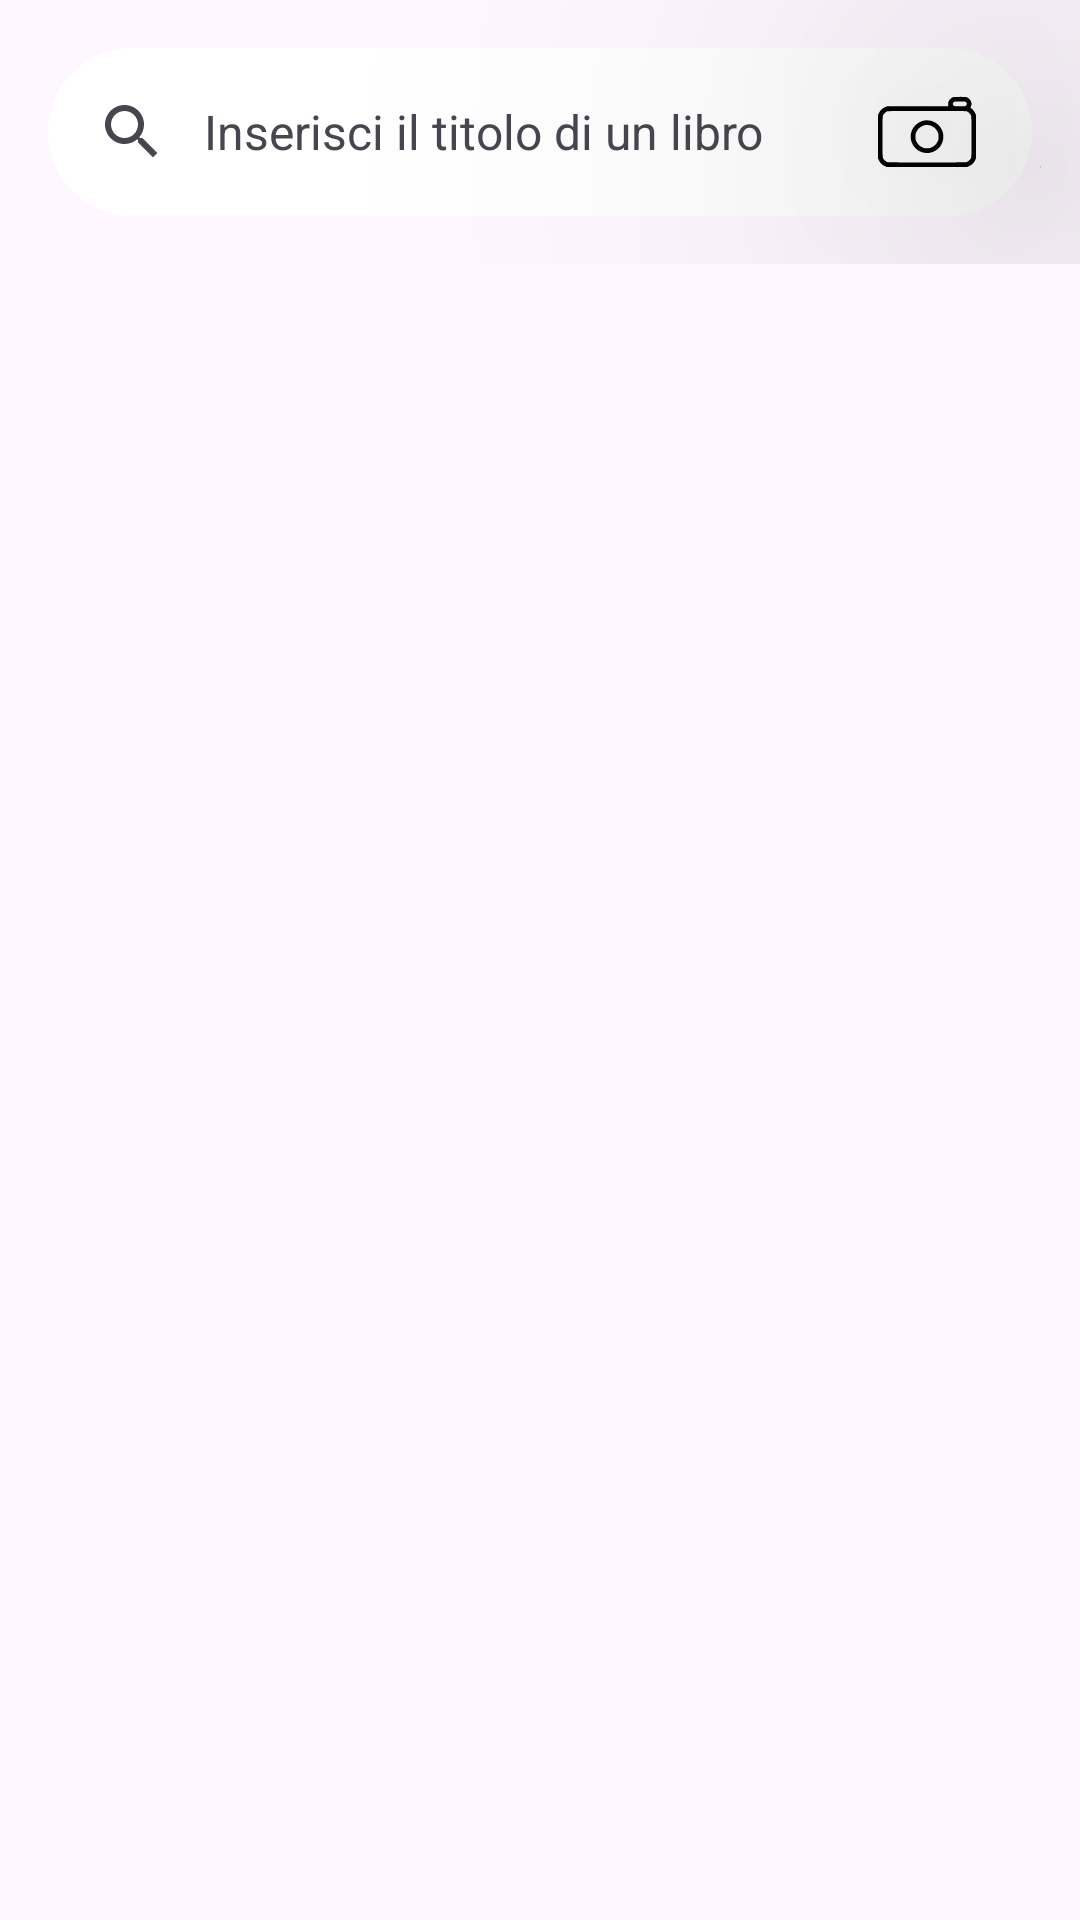

Named icons in this screenshot (1080px x 1920px) and their centers, (x,y):
camera: (927,131)
